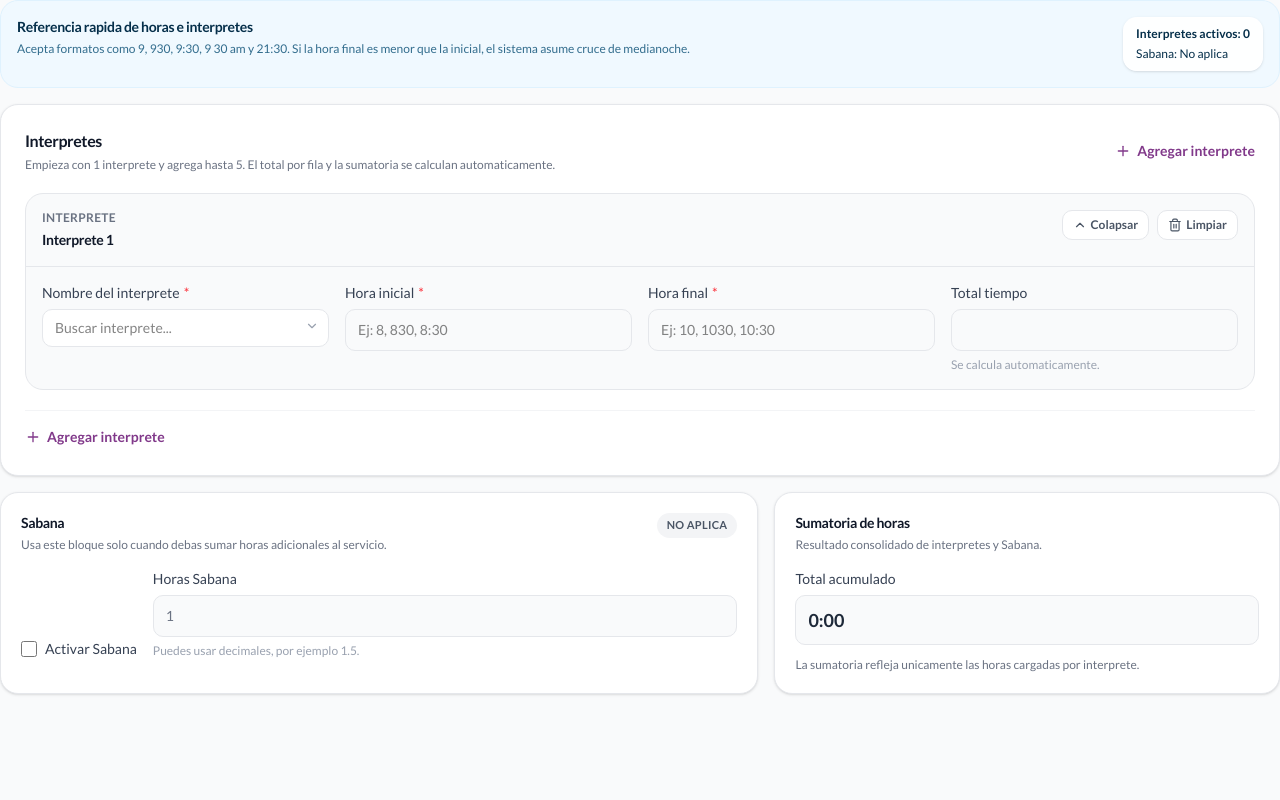
Scenario: InterpreteLscInterpretesSection › shows a validation error when the interpreted duration exceeds 16 hours
Type "08:00" into the field named "interpretes.0.hora_inicial" at (488, 330), box [345,309,632,351]
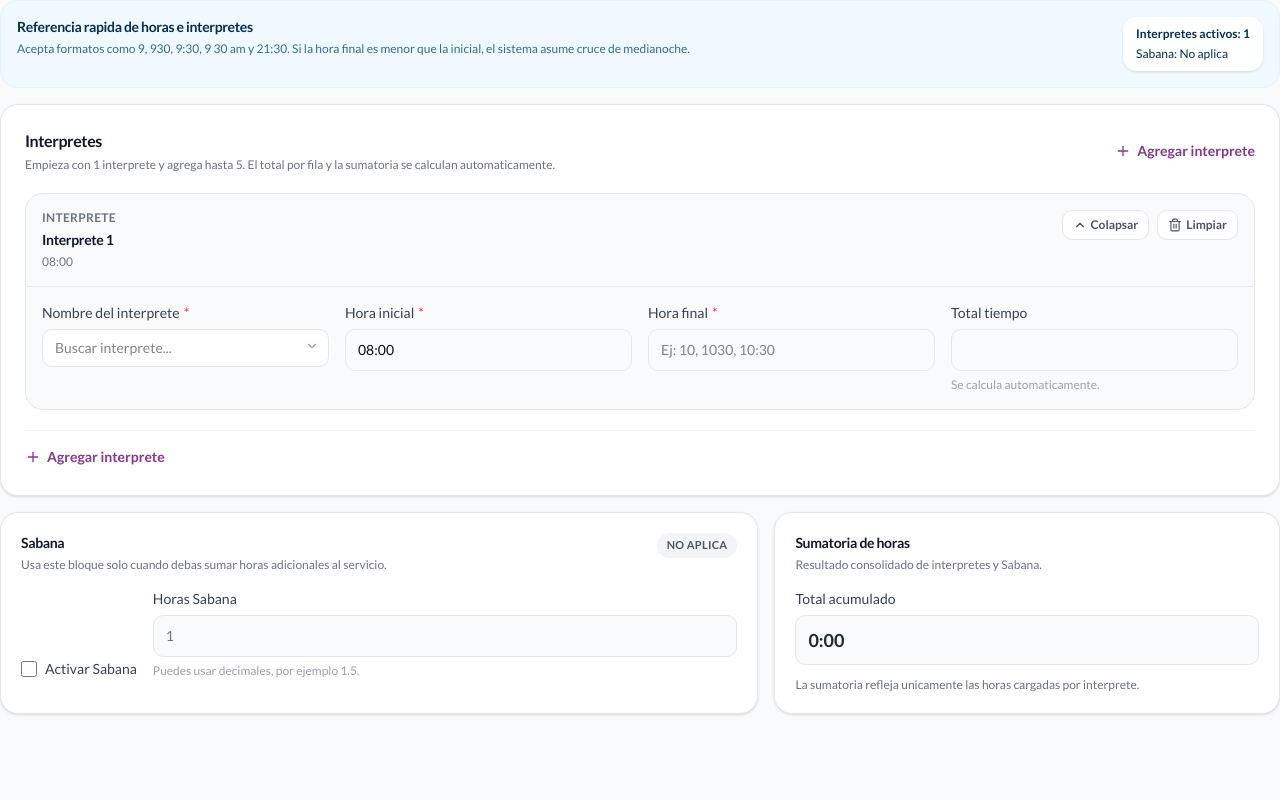
Type "01:00" into the field named "interpretes.0.hora_final" at (792, 350), box [648,329,935,371]
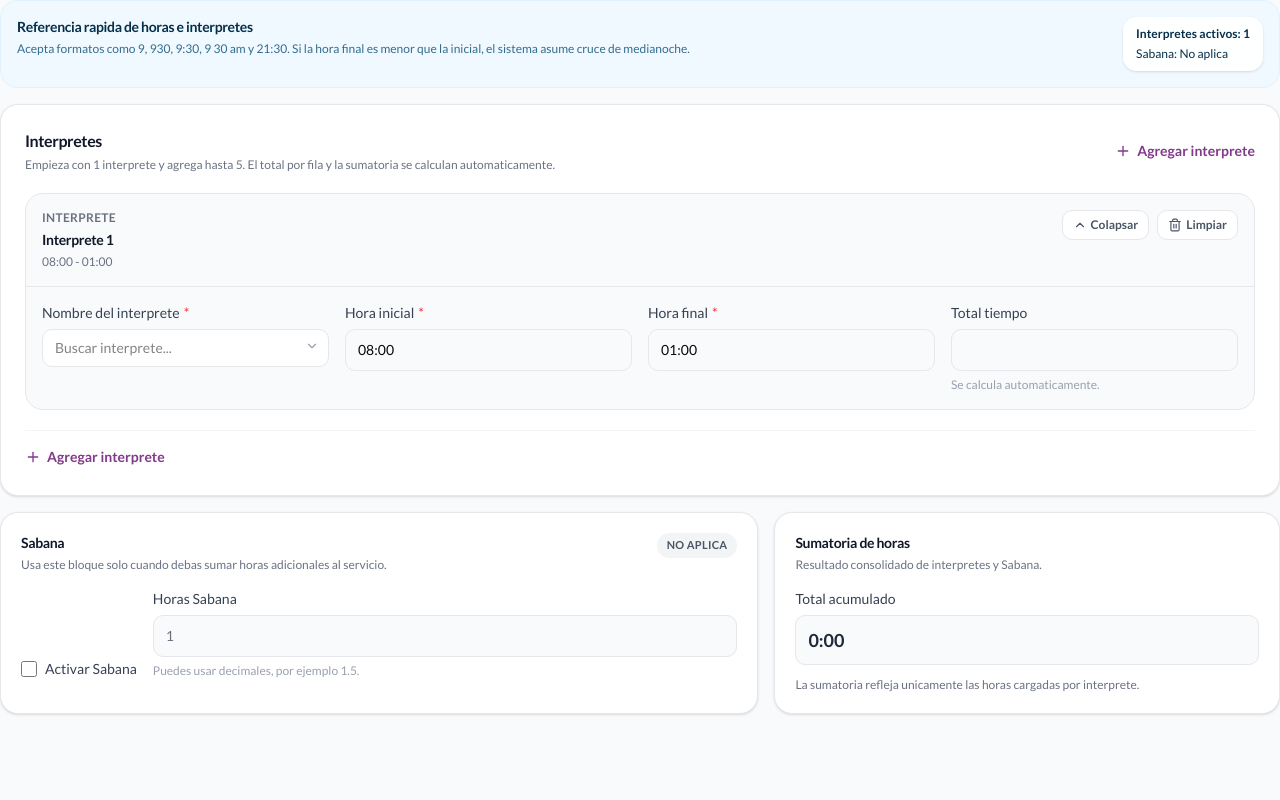
Leave the field named "interpretes.0.hora_final", box [648,329,935,371]
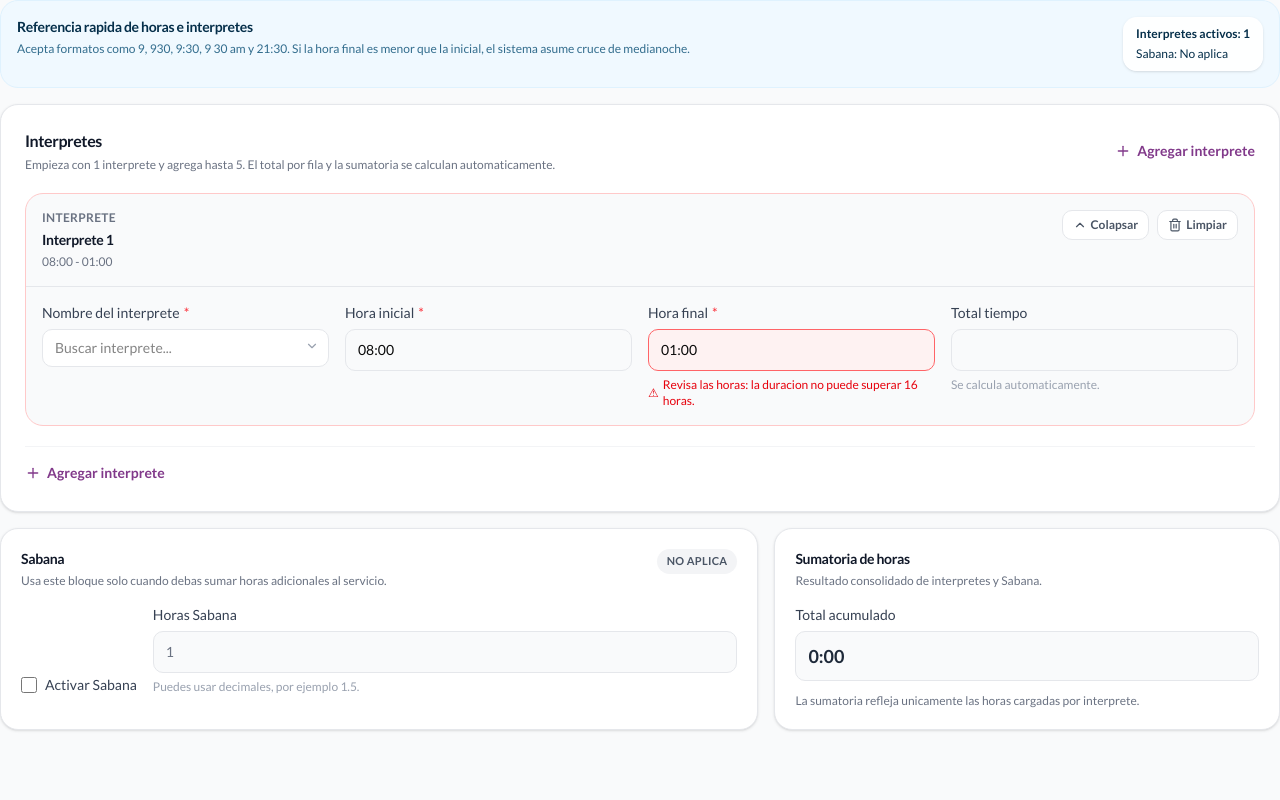
Expected: the field named "interpretes.0.total_tiempo" is empty, [951,329,1238,371]
Result: the text "Revisa las horas: la duracion no puede superar 16 horas." is shown at [663,377,918,408]
